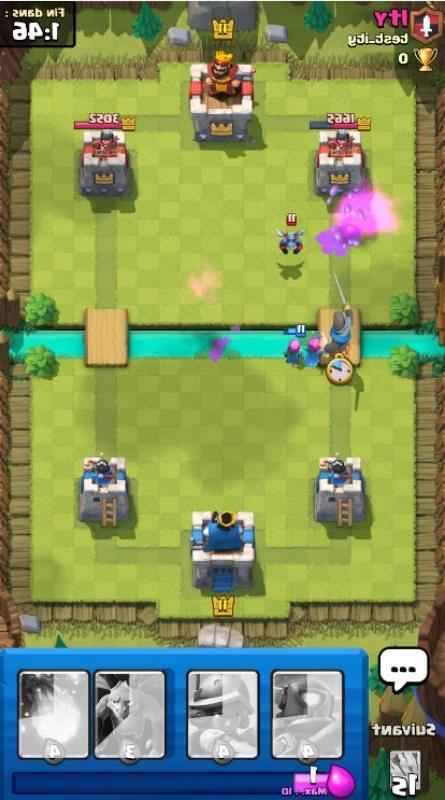enemy_minions: (271, 213, 307, 258)
player_archers: (277, 327, 307, 367), (300, 327, 324, 363)
player_knight: (321, 272, 361, 366)
